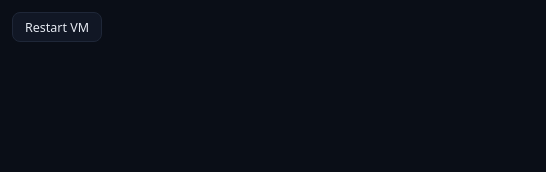
Test case: RestartVM › forces the VM off, then starts it, showing progress between
Later steps or results of the test are not shown.
What coordinates should you click on to do the following:
click the button "Restart VM"
I would click on:
 (57, 27)
Its box is [12,12,102,42].
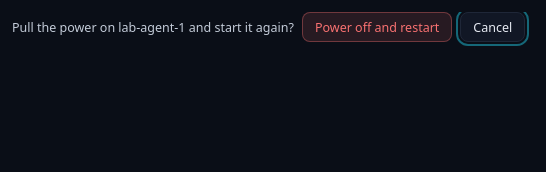
What coordinates should you click on to do the following:
click the button "Power off and restart"
I would click on:
 (377, 27)
Its box is [302,12,452,42].
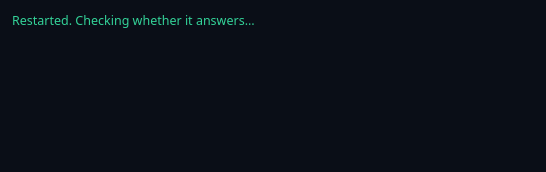
expect the text "Restarted. Checking whether it answers…" is shown: met, box [12,12,254,29]
